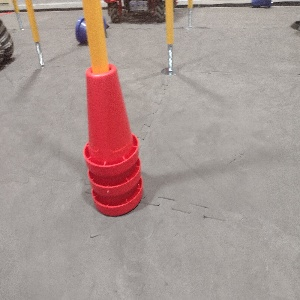Red_3: (84, 51, 143, 230)
